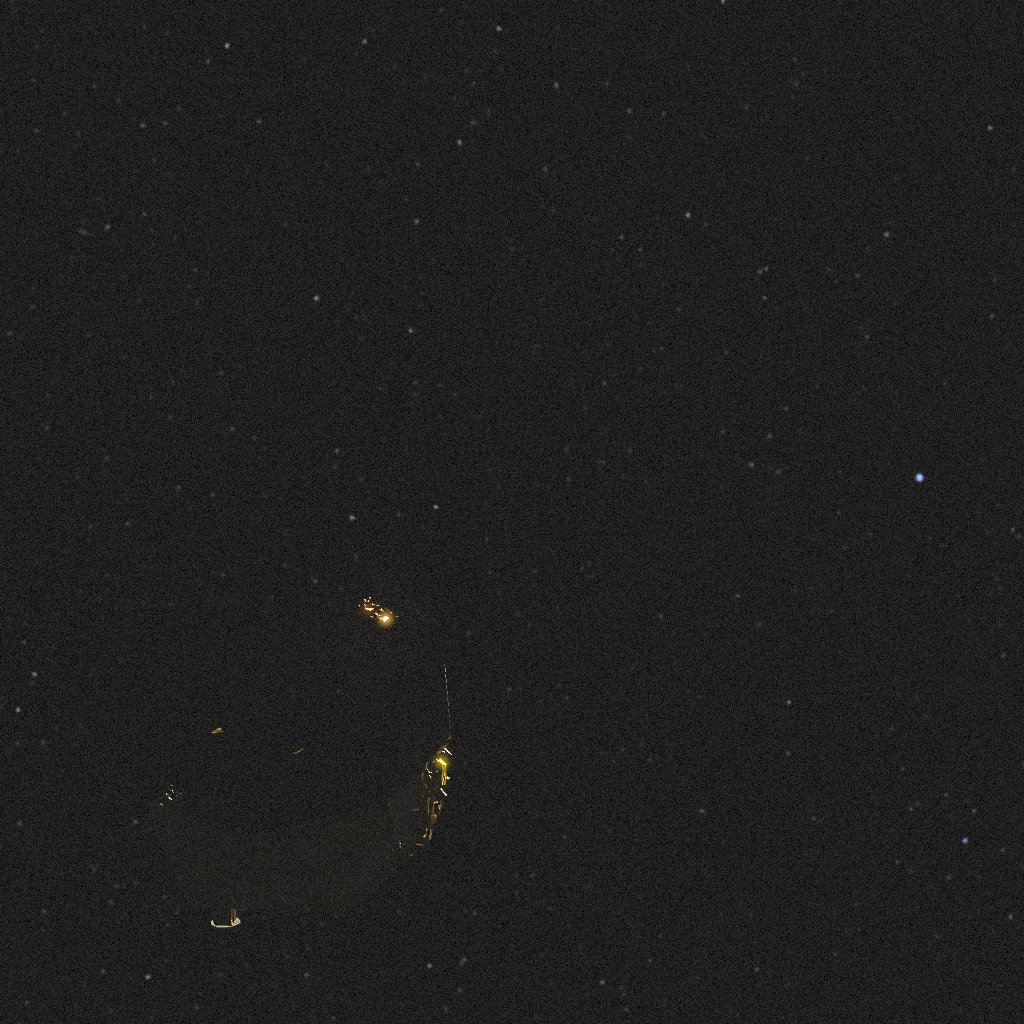lisa_pathfinder: (97, 597, 452, 929)
